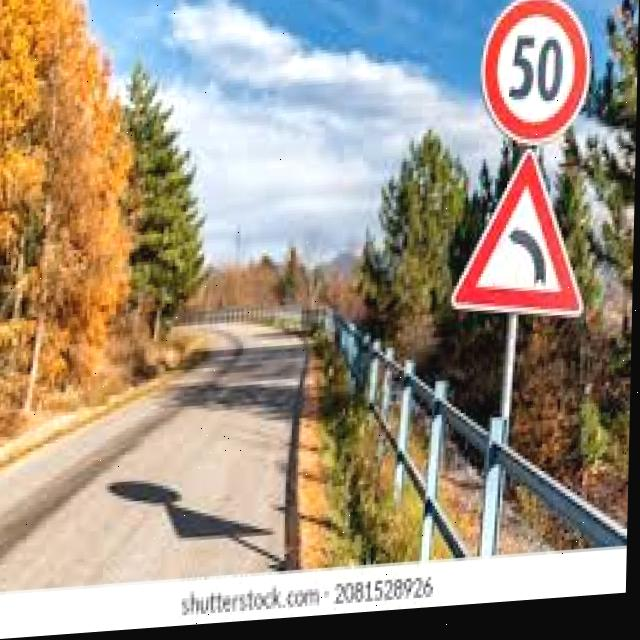Speed limit 50: (479, 1, 595, 158)
